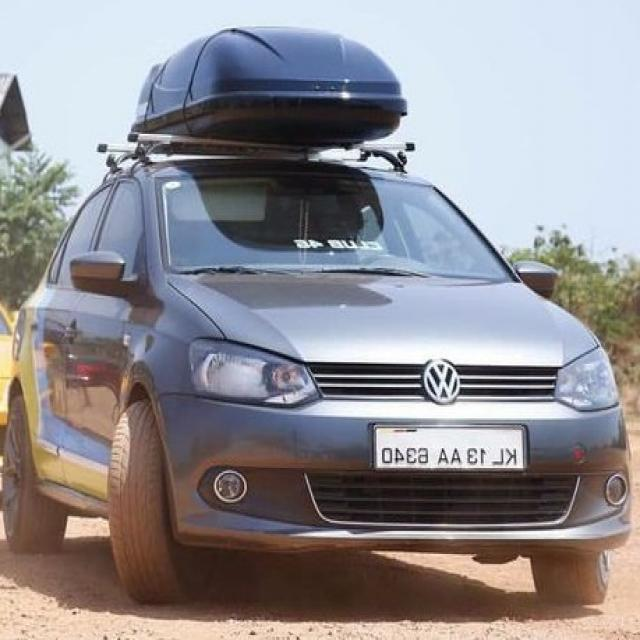license_plate: (369, 421, 532, 477)
